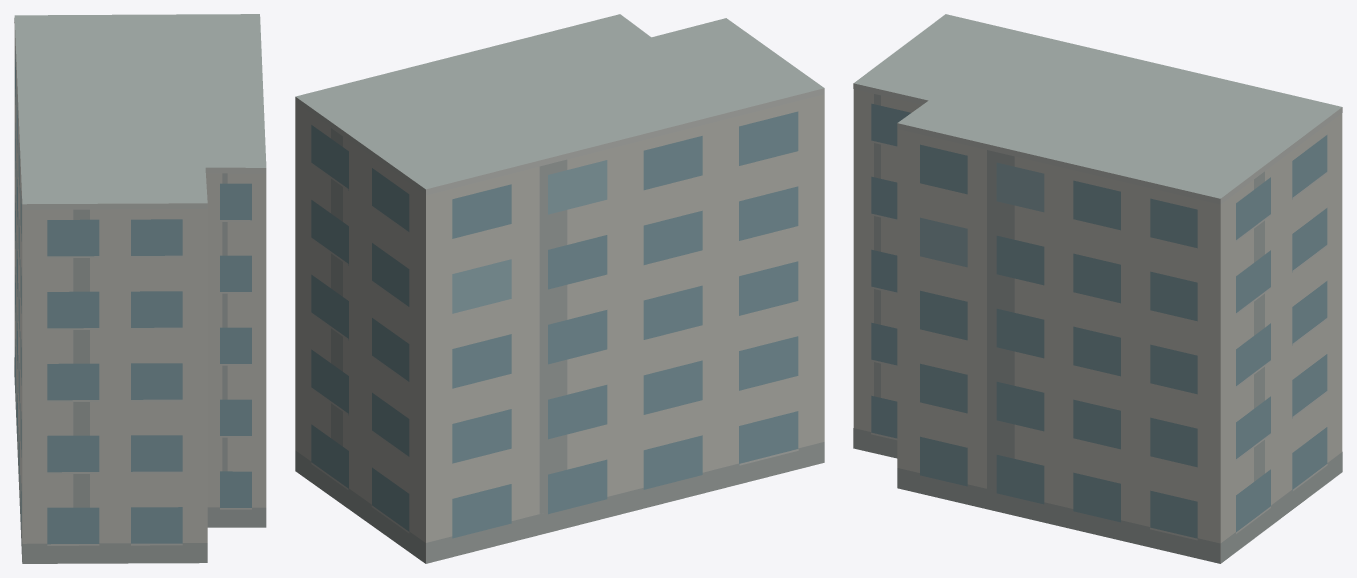
File: survey-upis-32966429.glb
The picture shows the model from 3 angles, left to right: view 1: azimuth 30°, elevation 25°; view 2: azimuth 150°, elevation 25°; view 3: azimuth 270°, elevation 25°; orthographic projection. The views are drawn at different scales.
Parts seen in each view (by area): view 1: survey-upis-32966429.tmp; view 2: survey-upis-32966429.tmp; view 3: survey-upis-32966429.tmp.
Part boxes in pixels (bbox=[...]): survey-upis-32966429.tmp: bbox=[14, 14, 266, 563]; survey-upis-32966429.tmp: bbox=[295, 14, 824, 563]; survey-upis-32966429.tmp: bbox=[853, 14, 1342, 563].
Size of the model in its own units: 16.56 by 15.25 by 18.52.
